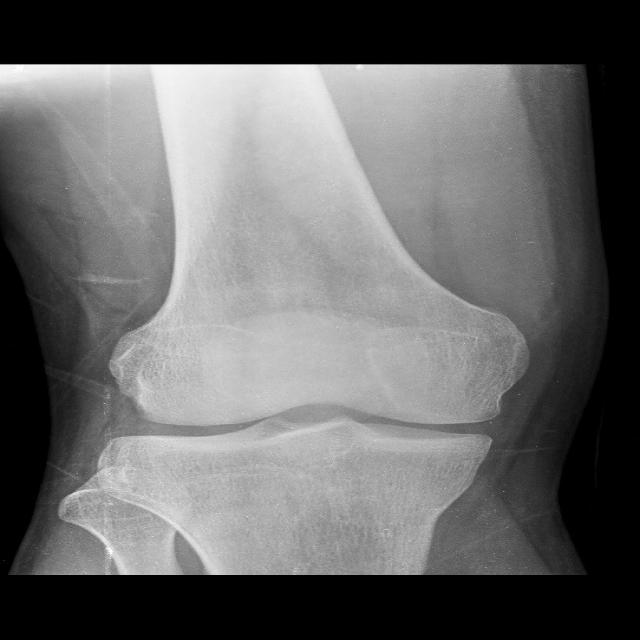normal: (88, 324, 526, 501)
